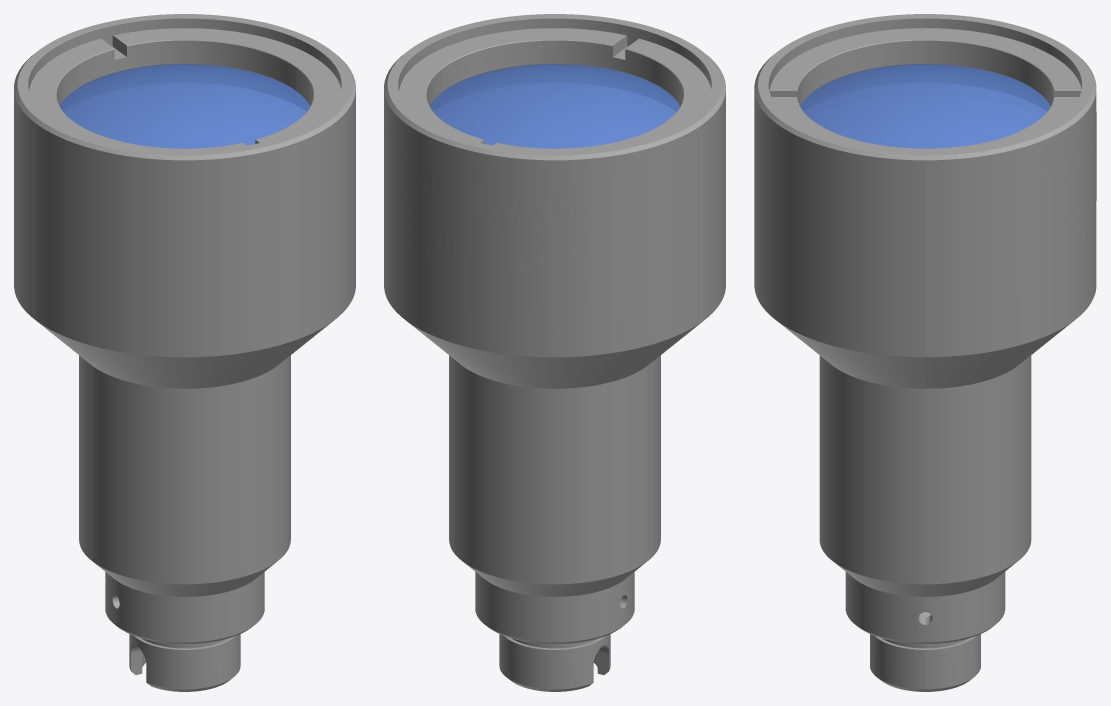
3 views of the same model, side by side, from view 1: azimuth 30°, elevation 25°; view 2: azimuth 150°, elevation 25°; view 3: azimuth 270°, elevation 25° (orthographic).
Visible parts, largest first — view 1: _3DGeom_24_Defintion, _3DGeom_39_Defintion, _3DGeom_100_Defintion, _3DGeom_103_Defintion, _3DGeom_101_Defintion, _3DGeom_41_Defintion, _3DGeom_38_Defintion, _3DGeom_114_Defintion, _3DGeom_35_Defintion, _3DGeom_22_Defintion, _3DGeom_120_Defintion, _3DGeom_99_Defintion (+7 smaller); view 2: _3DGeom_22_Defintion, _3DGeom_20_Defintion, _3DGeom_100_Defintion, _3DGeom_103_Defintion, _3DGeom_101_Defintion, _3DGeom_18_Defintion, _3DGeom_21_Defintion, _3DGeom_112_Defintion, _3DGeom_35_Defintion, _3DGeom_24_Defintion, _3DGeom_120_Defintion, _3DGeom_102_Defintion (+12 smaller); view 3: _3DGeom_24_Defintion, _3DGeom_22_Defintion, _3DGeom_39_Defintion, _3DGeom_20_Defintion, _3DGeom_98_Defintion, _3DGeom_101_Defintion, _3DGeom_100_Defintion, _3DGeom_111_Defintion, _3DGeom_35_Defintion, _3DGeom_18_Defintion, _3DGeom_41_Defintion, _3DGeom_38_Defintion (+15 smaller).
Part boxes in pixels (box(x1,y1,x2,y2)): _3DGeom_24_Defintion: box(37, 91, 355, 357); _3DGeom_39_Defintion: box(93, 355, 290, 584); _3DGeom_100_Defintion: box(59, 71, 233, 148); _3DGeom_103_Defintion: box(115, 83, 305, 148); _3DGeom_101_Defintion: box(122, 64, 310, 145); _3DGeom_41_Defintion: box(116, 572, 264, 642); _3DGeom_38_Defintion: box(38, 321, 332, 388); _3DGeom_114_Defintion: box(56, 40, 296, 105); _3DGeom_35_Defintion: box(17, 14, 352, 155); _3DGeom_22_Defintion: box(14, 91, 36, 320); _3DGeom_120_Defintion: box(113, 28, 340, 142); _3DGeom_99_Defintion: box(60, 64, 307, 110); _3DGeom_22_Defintion: box(384, 91, 702, 357); _3DGeom_20_Defintion: box(449, 355, 646, 584); _3DGeom_100_Defintion: box(506, 71, 680, 148); _3DGeom_103_Defintion: box(434, 83, 624, 148); _3DGeom_101_Defintion: box(429, 64, 617, 145); _3DGeom_18_Defintion: box(475, 572, 623, 642); _3DGeom_21_Defintion: box(407, 321, 701, 388); _3DGeom_112_Defintion: box(443, 40, 683, 105); _3DGeom_35_Defintion: box(387, 14, 722, 155); _3DGeom_24_Defintion: box(703, 91, 725, 320); _3DGeom_120_Defintion: box(399, 28, 626, 142); _3DGeom_102_Defintion: box(432, 64, 679, 110); _3DGeom_24_Defintion: box(754, 91, 925, 357); _3DGeom_22_Defintion: box(925, 92, 1096, 357); _3DGeom_39_Defintion: box(819, 355, 925, 584); _3DGeom_20_Defintion: box(925, 355, 1031, 584); _3DGeom_98_Defintion: box(804, 83, 1046, 146); _3DGeom_101_Defintion: box(807, 95, 1043, 148); _3DGeom_100_Defintion: box(800, 64, 1050, 114); _3DGeom_111_Defintion: box(769, 28, 1081, 90); _3DGeom_35_Defintion: box(758, 14, 1092, 155); _3DGeom_18_Defintion: box(925, 572, 1005, 642); _3DGeom_41_Defintion: box(845, 572, 925, 642); _3DGeom_38_Defintion: box(778, 322, 925, 388).
Bounding box in the file's own units: 0.94 × 0.9397 × 1.78.
